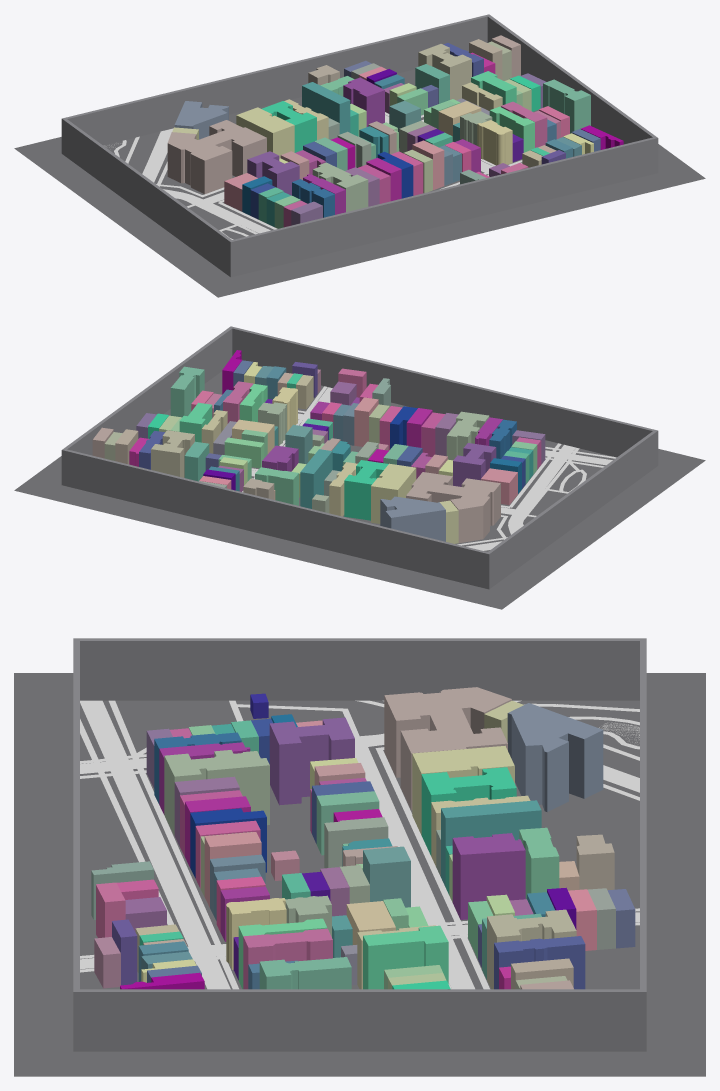
Rendered from westvillage_small.glb.
3 views of the same model, one above another, from view 1: azimuth 30°, elevation 25°; view 2: azimuth 150°, elevation 25°; view 3: azimuth 270°, elevation 25° (orthographic). The views are drawn at different scales.
Parts seen in each view (by area): view 1: Ground-col, Border_S-col, Border_N-col, Border_W-col, Building_217-col, Border_E-col, Roads, Building_283-col, Building_526-col, Building_468-col, Building_339-col, Building_441-col (+33 smaller); view 2: Ground-col, Border_N-col, Border_S-col, Border_W-col, Border_E-col, Building_217-col, Building_245-col, Roads, Footways, Building_299-col, Building_283-col, Building_468-col (+34 smaller); view 3: Ground-col, Border_E-col, Border_W-col, Roads, Building_245-col, Footways, Building_217-col, Building_356-col, Building_246-col, Building_287-col, Building_481-col, Building_339-col (+47 smaller).
Boxes of the visible parts, <box> form: Ground-col: <box>14,69,705,297</box>; Border_S-col: <box>229,136,658,277</box>; Border_N-col: <box>61,14,489,153</box>; Border_W-col: <box>61,118,233,277</box>; Building_217-col: <box>167,120,266,194</box>; Border_E-col: <box>486,14,658,172</box>; Roads: <box>142,115,522,233</box>; Building_283-col: <box>236,107,294,158</box>; Building_526-col: <box>543,79,590,133</box>; Building_468-col: <box>418,44,471,100</box>; Building_339-col: <box>302,82,350,134</box>; Building_441-col: <box>477,120,512,165</box>; Ground-col: <box>14,371,705,609</box>; Border_N-col: <box>61,448,490,589</box>; Border_S-col: <box>229,326,658,466</box>; Border_W-col: <box>486,430,657,588</box>; Border_E-col: <box>61,326,233,485</box>; Building_217-col: <box>406,472,500,543</box>; Building_245-col: <box>380,496,445,541</box>; Roads: <box>251,387,612,550</box>; Footways: <box>242,386,616,545</box>; Building_299-col: <box>344,460,388,520</box>; Building_283-col: <box>371,463,416,523</box>; Building_468-col: <box>151,430,194,477</box>; Ground-col: <box>14,673,705,1076</box>; Border_E-col: <box>73,989,646,1051</box>; Border_W-col: <box>73,638,646,700</box>; Roads: <box>80,700,639,989</box>; Building_245-col: <box>507,703,603,811</box>; Footways: <box>80,700,639,989</box>; Building_217-col: <box>384,687,511,810</box>; Building_356-col: <box>452,833,525,919</box>; Building_246-col: <box>269,717,354,805</box>; Building_287-col: <box>164,750,269,835</box>; Building_481-col: <box>363,925,448,989</box>; Building_339-col: <box>441,800,541,886</box>.
Size of the model in its own units: 290 by 23.3 by 210.
